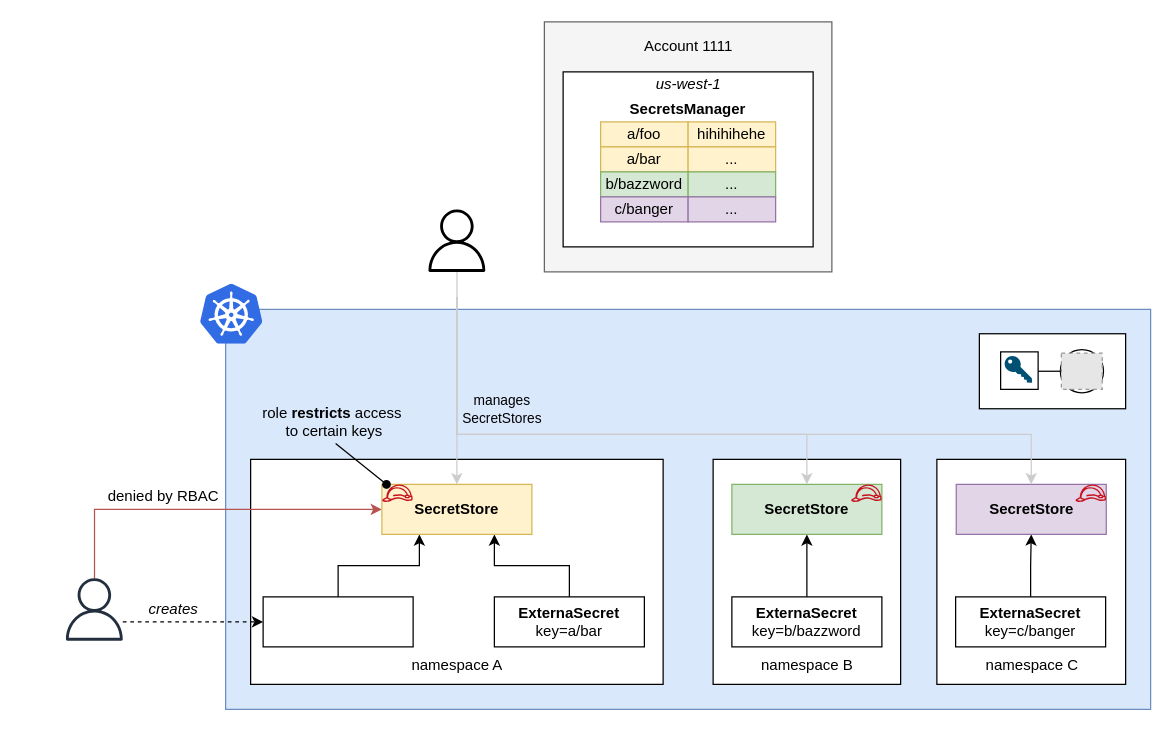
Some shapes in this 1173 by 731 pixel diagram are drawn without their labels. Grey dashed boxes stand in for pictures. Each missing label, with the box of its shape:
Application Developer: (62, 578, 125, 640)
Cluster Admin: (424, 208, 488, 272)
ExternaSecret key=a/foo: (262, 596, 413, 647)
